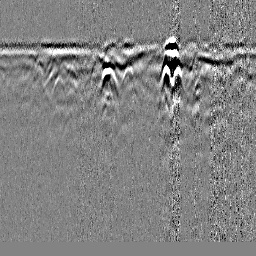cavity: (118, 65, 138, 96)
